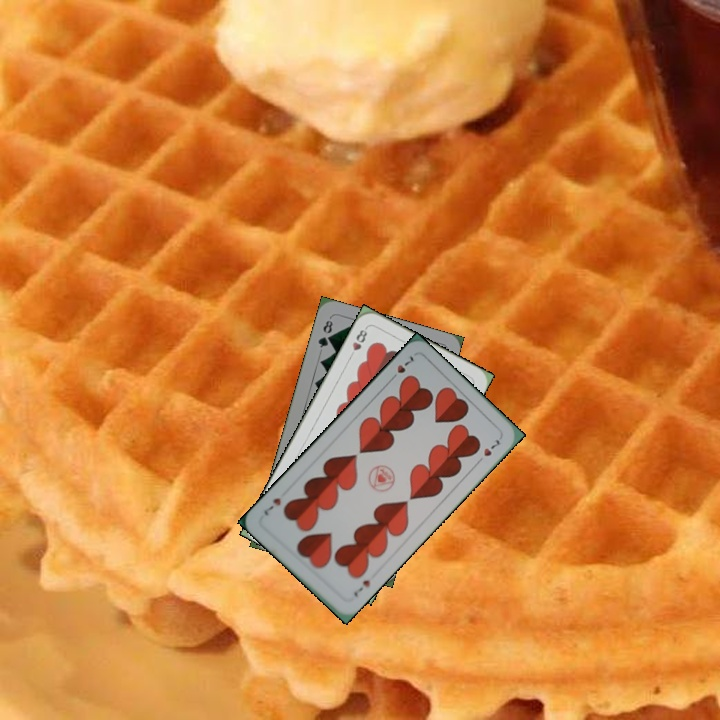G8: (314, 314, 335, 350)
H7: (385, 352, 416, 384), (350, 576, 372, 600)
H8: (345, 323, 370, 361)
